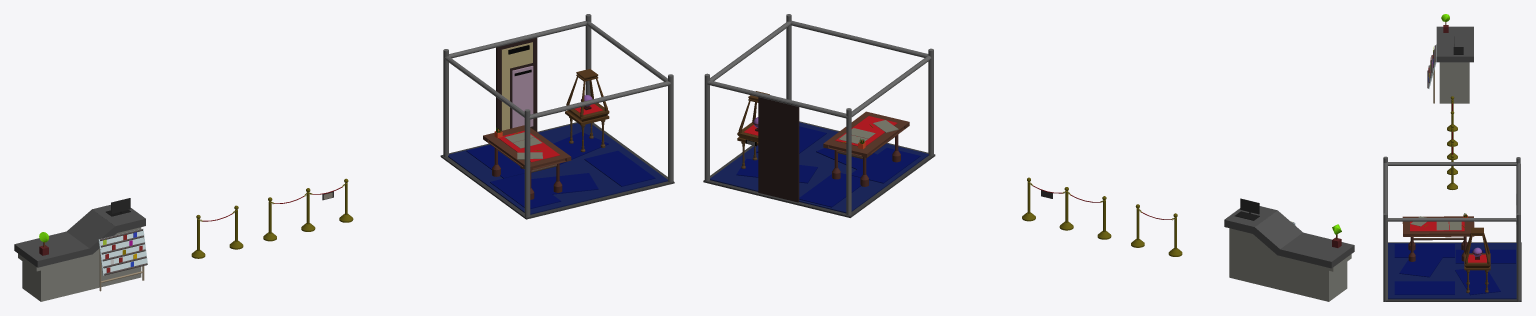
The model's file is Artifacts_Stands.fbx.
3 renders of one model, left to right at view 1: azimuth 30°, elevation 25°; view 2: azimuth 150°, elevation 25°; view 3: azimuth 270°, elevation 25°, orthographic. The views are drawn at different scales.
Parts seen in each view (by area): view 1: Cylinder.017, Cube.040, Cube.024, Cube.020, Cube.002, Cube.029, Cube.030, Cube.003, Cube.037, Cube.031, Cube.032, Cylinder.010 (+5 smaller); view 2: Cylinder.017, Cube.002, Cube.030, Cube.040, Cube.024, Cube.020, Cube.029, Cube.037, Cube.038, Cylinder.011, Cube.035, Cylinder.010 (+1 smaller); view 3: Cube.040, Cube.024, Cylinder.017, Cube.020, Cube.002, Cube.037, Cylinder.010, Cube.029, Cube.038, Cube.035, Cylinder.011, Circle.002 (+7 smaller).
Boxes of the visible parts, x1,y1,x2,y2 form: Cylinder.017: (443, 14, 673, 217); Cube.040: (466, 132, 655, 208); Cube.024: (448, 123, 667, 214); Cube.020: (14, 204, 145, 267); Cube.002: (18, 227, 141, 301); Cube.029: (440, 122, 674, 219); Cube.030: (496, 37, 537, 131); Cube.003: (98, 228, 147, 275); Cube.037: (483, 125, 571, 170); Cube.031: (501, 42, 532, 130); Cube.032: (512, 66, 533, 128); Cylinder.010: (565, 69, 609, 125); Cylinder.017: (704, 14, 933, 215); Cube.002: (1229, 228, 1351, 301); Cube.030: (758, 97, 799, 202); Cube.040: (736, 126, 920, 207); Cube.024: (710, 122, 928, 213); Cube.020: (1224, 206, 1354, 268); Cube.029: (703, 121, 935, 217); Cube.037: (823, 111, 909, 157); Cube.038: (835, 116, 897, 146); Cylinder.011: (832, 134, 900, 186); Cube.035: (838, 120, 898, 143); Cylinder.010: (737, 91, 769, 145); Cube.040: (1394, 244, 1515, 295); Cube.024: (1388, 243, 1516, 299); Cylinder.017: (1383, 156, 1520, 301); Cube.020: (1436, 26, 1473, 62); Cube.002: (1439, 62, 1469, 103); Cube.037: (1402, 216, 1474, 236); Cylinder.010: (1464, 227, 1490, 270); Cube.029: (1383, 242, 1521, 301); Cube.038: (1410, 221, 1464, 231); Cube.035: (1410, 216, 1461, 230); Cylinder.011: (1408, 236, 1467, 261); Circle.002: (1447, 139, 1457, 189).
Bounding box in the file's own units: 3009 × 511 × 739.
